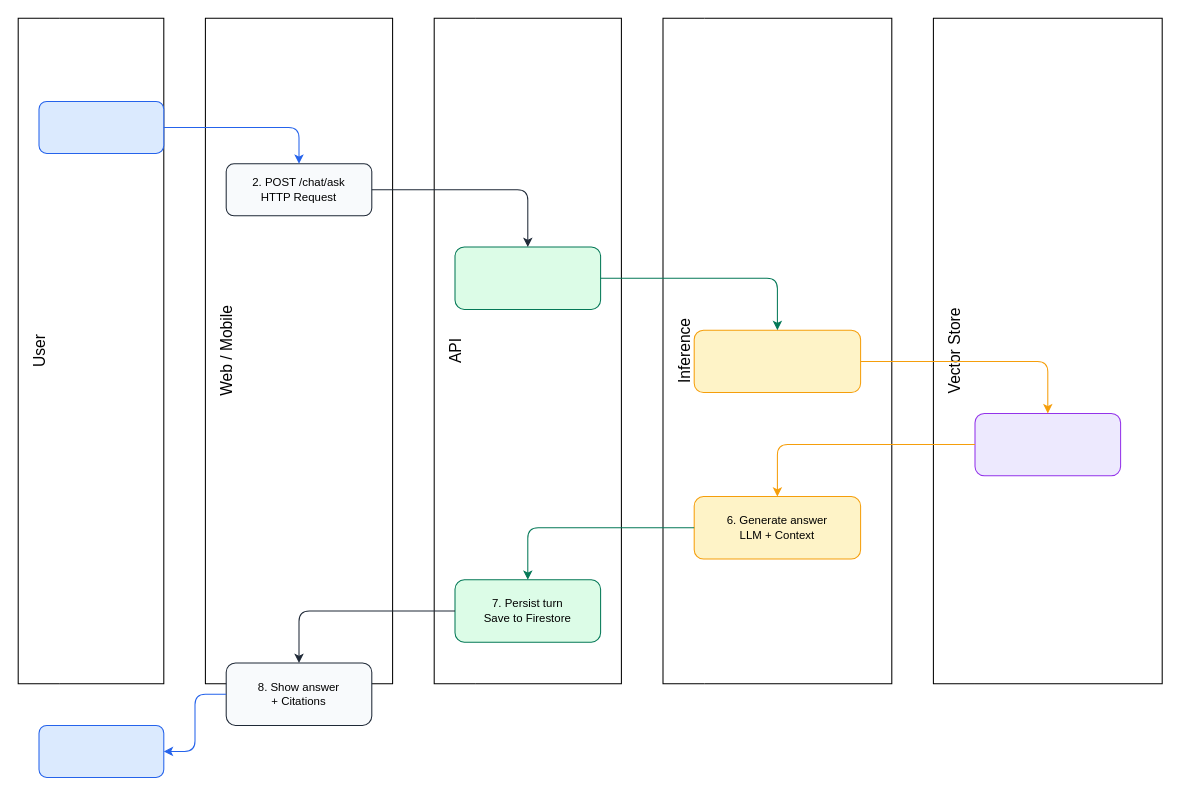
This 1180x796 diagram has some shape labels left out. The shapes that lost their labels are listed below. From the top down, each one's centre as x and y in pixels, then its label:
(x=101, y=126): 1. Ask question User input
(x=527, y=277): 3. Validate roles Emit typing indicator
(x=777, y=361): 4. Hybrid retrieval Semantic + Keyword
(x=1047, y=444): 5. Vector search FAISS + BM25
(x=101, y=750): 9. Answer delivered Complete
